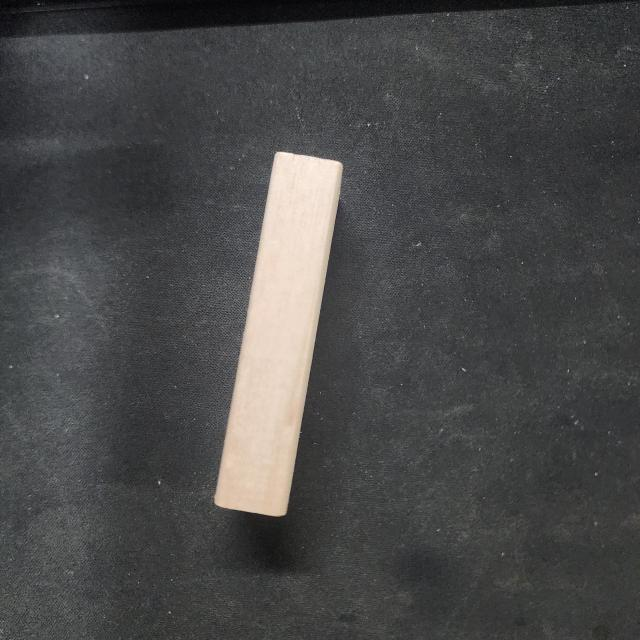wood: (210, 151, 345, 519)
